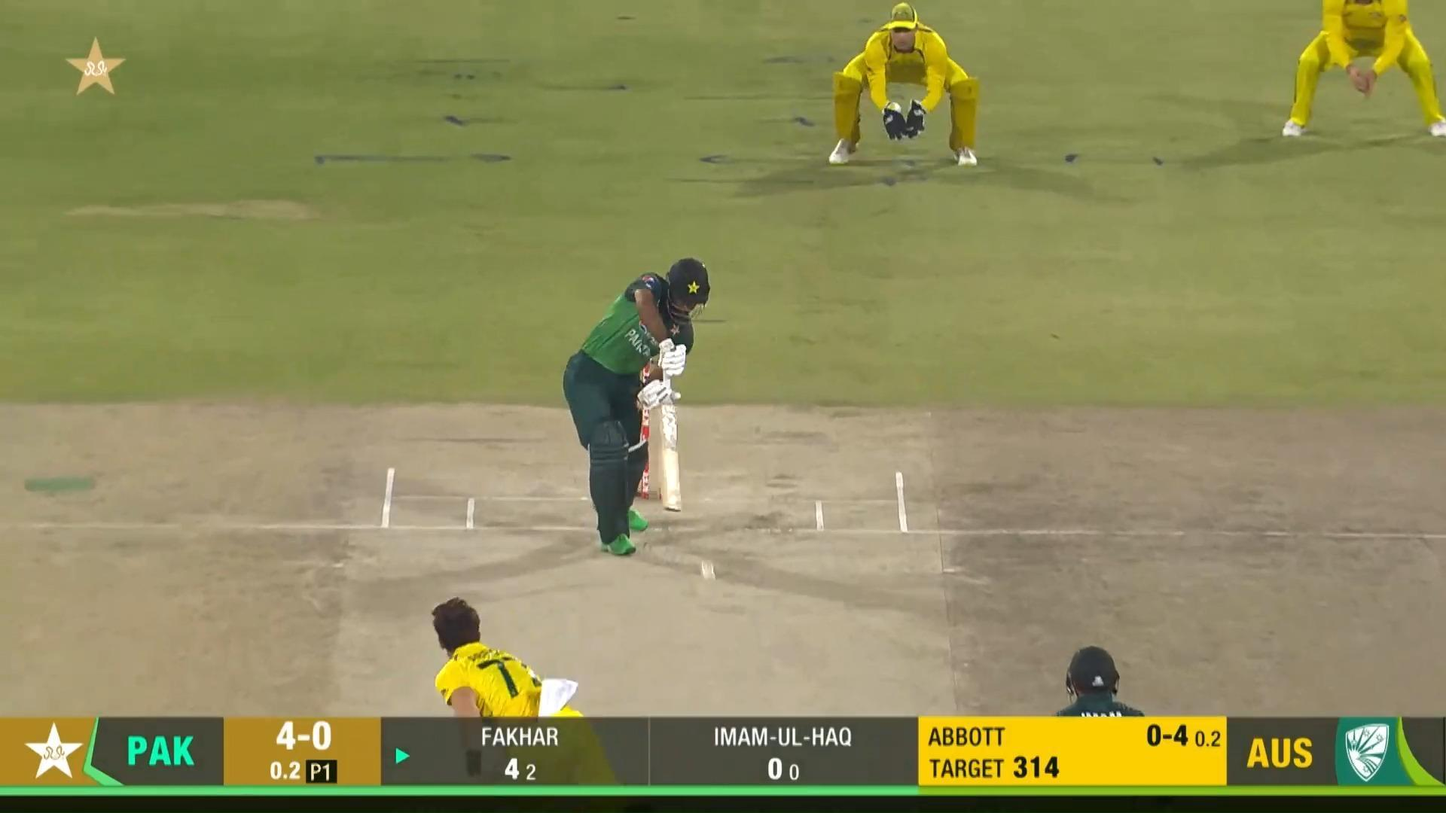BM 1: (563, 256, 710, 556)
BO: (430, 597, 621, 783)
